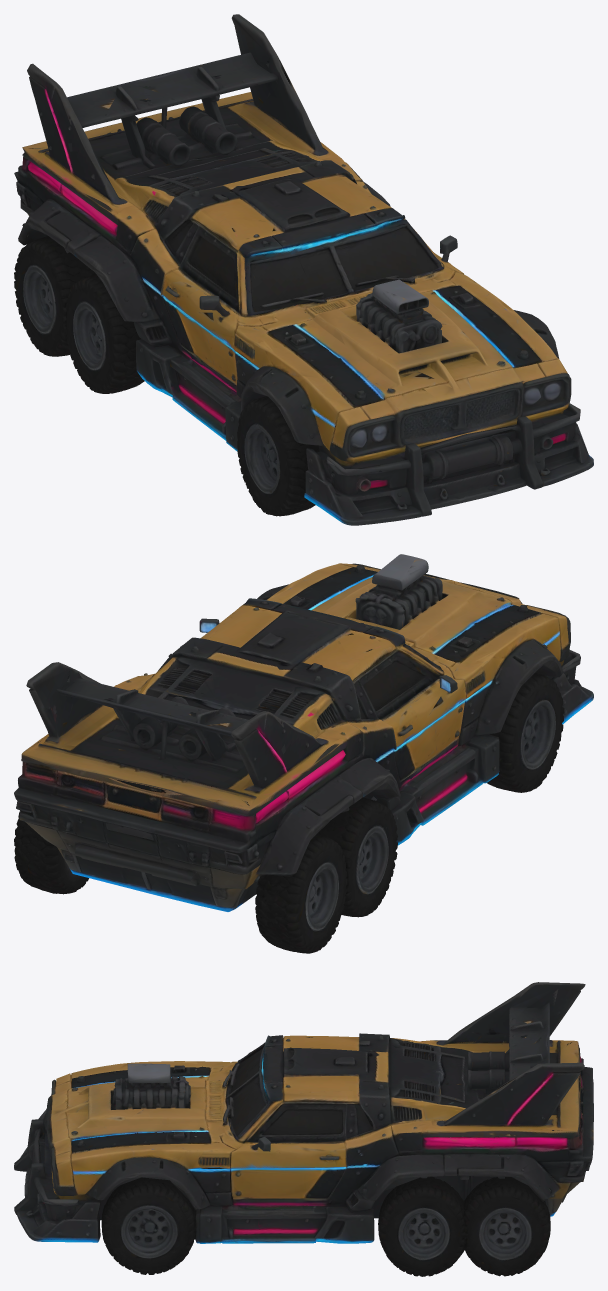
Rendered from warrig.glb.
The picture shows the model from 3 angles, top to bottom: view 1: azimuth 30°, elevation 25°; view 2: azimuth 150°, elevation 25°; view 3: azimuth 270°, elevation 25°; orthographic projection. The views are drawn at different scales.
Parts seen in each view (by area): view 1: body, wheelFL, wheelML, wheelRL, exhaustR, exhaustL; view 2: body, wheelRL, wheelFL, wheelML, wheelRR, exhaustR, exhaustL; view 3: body, wheelFR, wheelMR, wheelRR, exhaustR, exhaustL.
Boxes of the visible parts, left/top/right/bottom form: body: left=14, top=14, right=593, bottom=525; wheelFL: left=237, top=396, right=319, bottom=516; wheelML: left=65, top=274, right=144, bottom=393; wheelRL: left=14, top=236, right=95, bottom=356; exhaustR: left=179, top=106, right=237, bottom=155; exhaustL: left=136, top=117, right=190, bottom=166; body: left=14, top=554, right=593, bottom=911; wheelRL: left=255, top=834, right=347, bottom=953; wheelFL: left=487, top=673, right=564, bottom=792; wheelML: left=317, top=797, right=397, bottom=917; wheelRR: left=14, top=811, right=88, bottom=894; exhaustR: left=117, top=696, right=188, bottom=751; exhaustL: left=166, top=707, right=235, bottom=762; body: left=14, top=982, right=593, bottom=1243; wheelFR: left=101, top=1177, right=195, bottom=1274; wheelMR: left=378, top=1176, right=464, bottom=1276; wheelRR: left=463, top=1177, right=550, bottom=1276; exhaustR: left=467, top=1069, right=509, bottom=1094; exhaustL: left=467, top=1051, right=509, bottom=1071.
Size of the model in its own units: 0.4663 by 0.3824 by 0.9997.
Materials: 1 (1 with a texture image).
